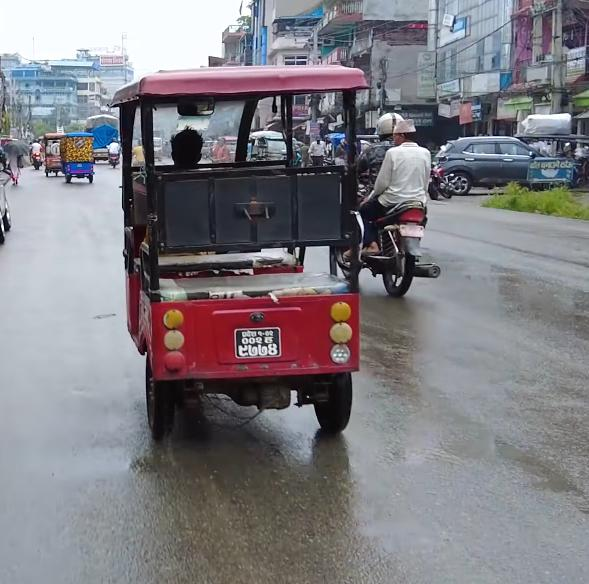bike: (362, 171, 442, 298)
car: (432, 130, 559, 190)
e-rickshaw: (96, 52, 375, 443), (57, 129, 98, 184), (42, 131, 65, 179)
